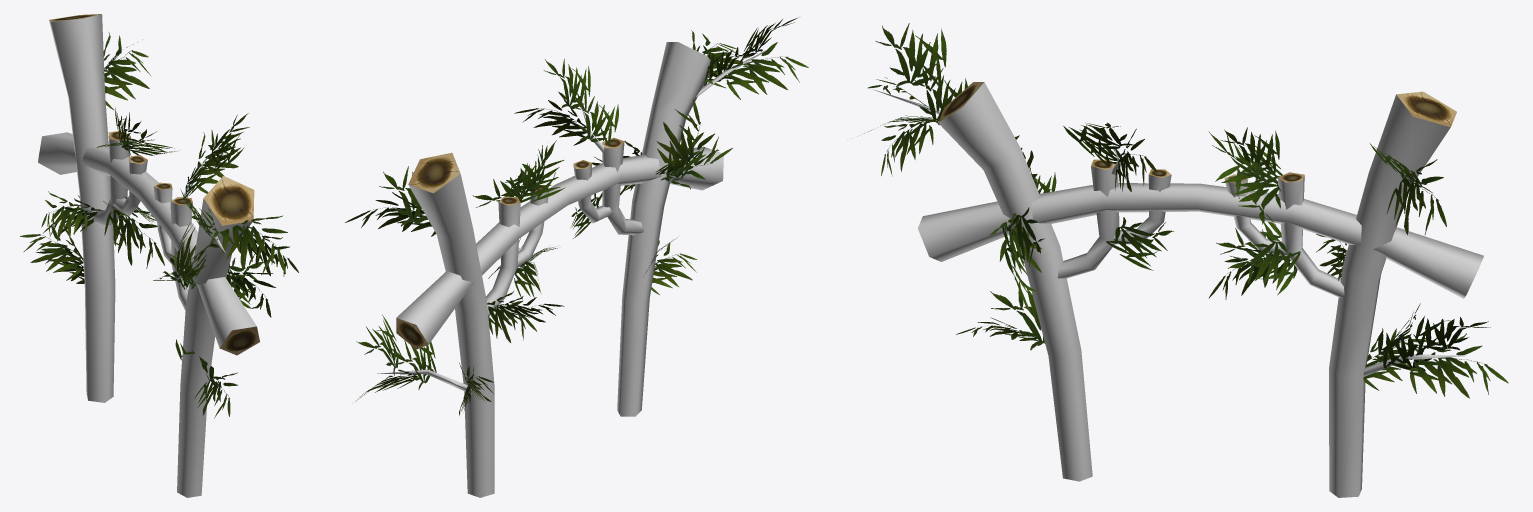
File: environment_common_qingzhumenkuang_001_a.FBX
3 views of the same model, side by side, from view 1: azimuth 30°, elevation 25°; view 2: azimuth 150°, elevation 25°; view 3: azimuth 270°, elevation 25° (orthographic). The views are drawn at different scales.
Parts seen in each view (by area): view 1: environment_common_qingzhumenkuang_001_a, environment_common_qingzhumenkuang_001_b, environment_common_qingzhumenkuang_001_c; view 2: environment_common_qingzhumenkuang_001_a, environment_common_qingzhumenkuang_001_b, environment_common_qingzhumenkuang_001_c; view 3: environment_common_qingzhumenkuang_001_a, environment_common_qingzhumenkuang_001_b, environment_common_qingzhumenkuang_001_c.
Boxes of the visible parts, x1,y1,x2,y2 form: environment_common_qingzhumenkuang_001_a: [38, 14, 256, 497]; environment_common_qingzhumenkuang_001_b: [20, 32, 298, 418]; environment_common_qingzhumenkuang_001_c: [49, 14, 259, 355]; environment_common_qingzhumenkuang_001_a: [377, 42, 766, 497]; environment_common_qingzhumenkuang_001_b: [345, 17, 808, 415]; environment_common_qingzhumenkuang_001_c: [396, 137, 624, 349]; environment_common_qingzhumenkuang_001_a: [872, 82, 1483, 497]; environment_common_qingzhumenkuang_001_b: [857, 23, 1508, 398]; environment_common_qingzhumenkuang_001_c: [938, 82, 1456, 182].
Bounding box in the file's own units: 116 × 179 × 261.
